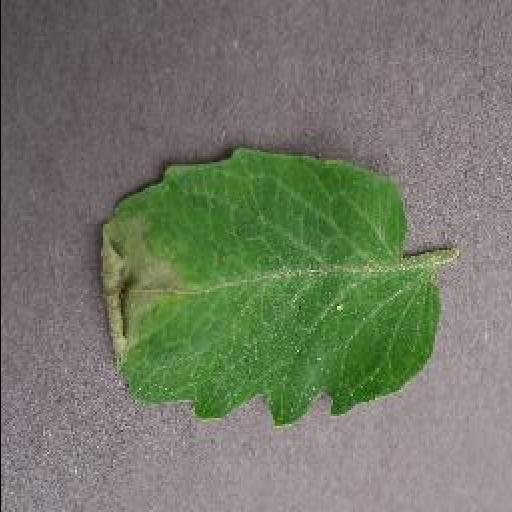disease_tomato: (91, 148, 445, 432)
